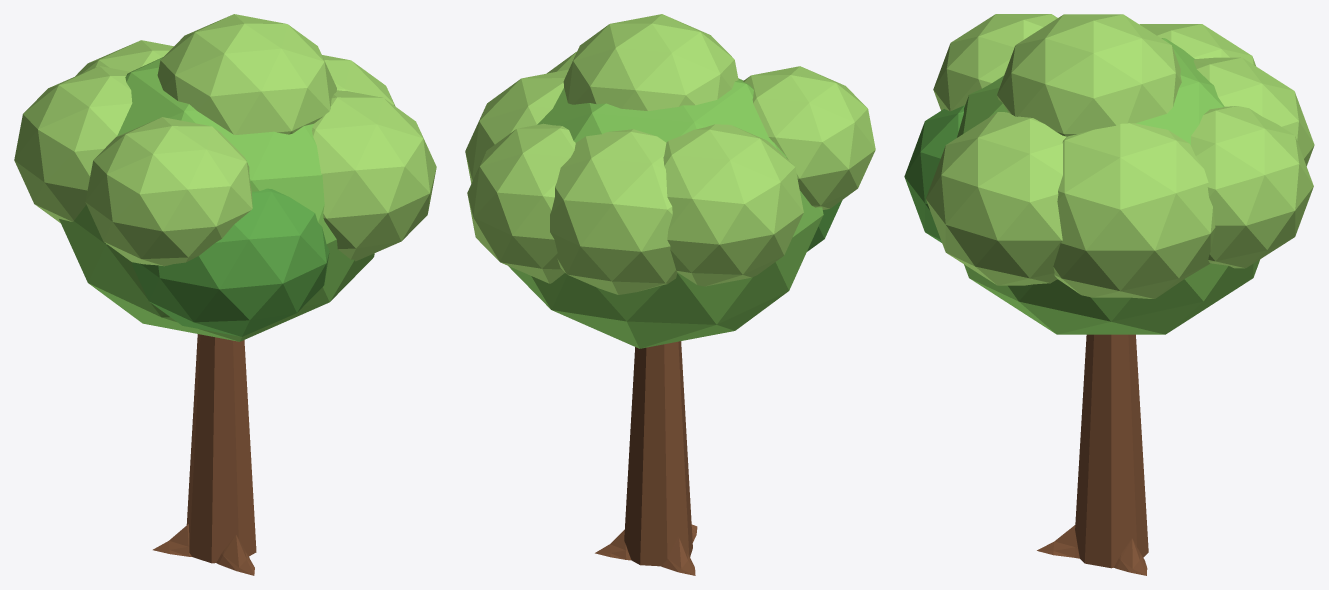
Rendered from tree-round-c.glb.
3 renders of one model, left to right at view 1: azimuth 30°, elevation 25°; view 2: azimuth 150°, elevation 25°; view 3: azimuth 270°, elevation 25°, orthographic. The views are drawn at different scales.
Parts seen in each view (by area): view 1: tree-round-c; view 2: tree-round-c; view 3: tree-round-c.
Part boxes in pixels (x1=…): tree-round-c: x1=14, y1=14, x2=436, y2=575; tree-round-c: x1=465, y1=14, x2=875, y2=575; tree-round-c: x1=904, y1=14, x2=1314, y2=575.
Size of the model in its own units: 3.69 by 5.48 by 3.78.
